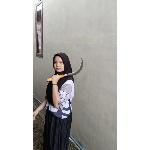Celurit: (44, 56, 86, 84)
